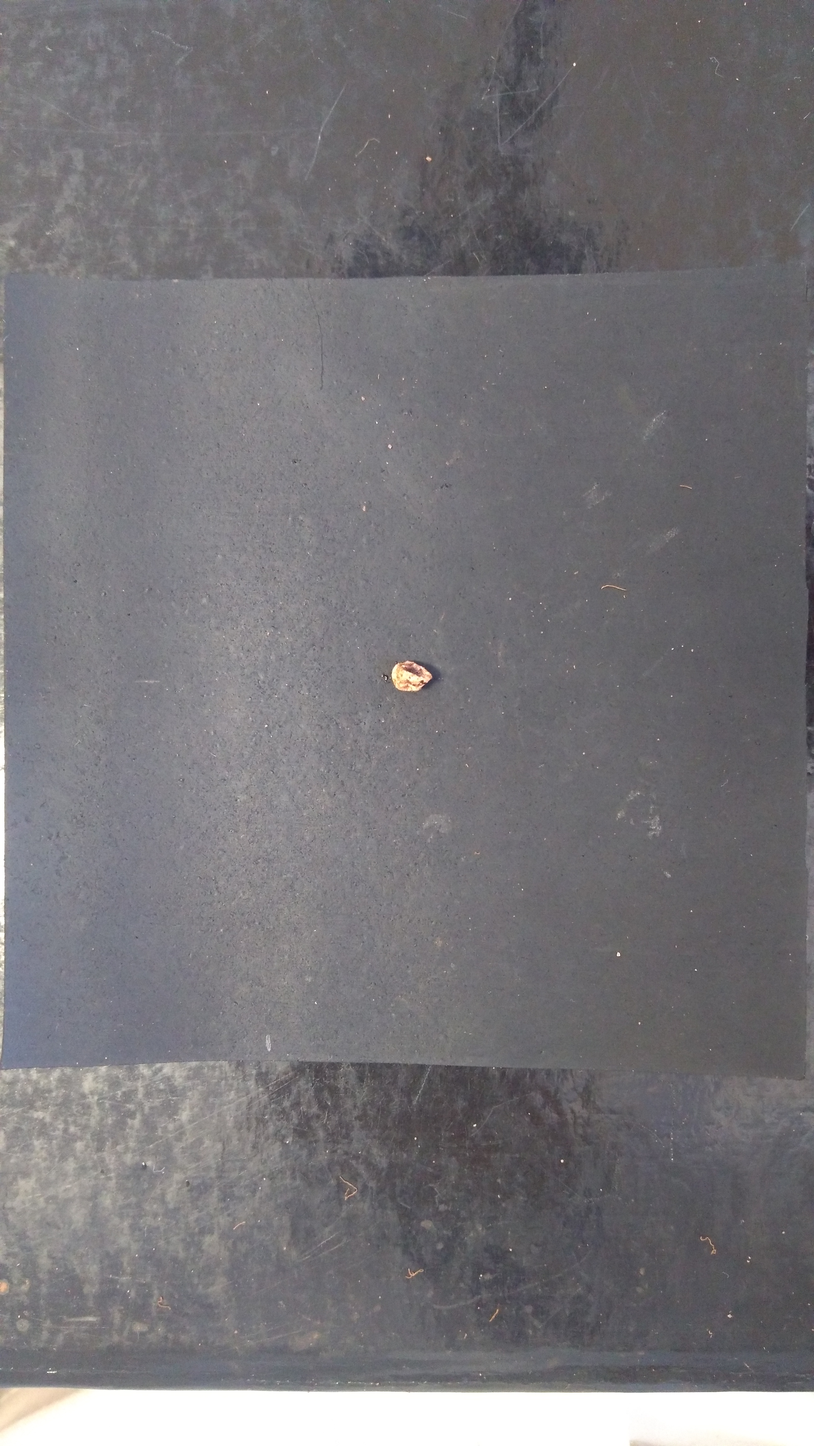nodule: (390, 660, 433, 692)
